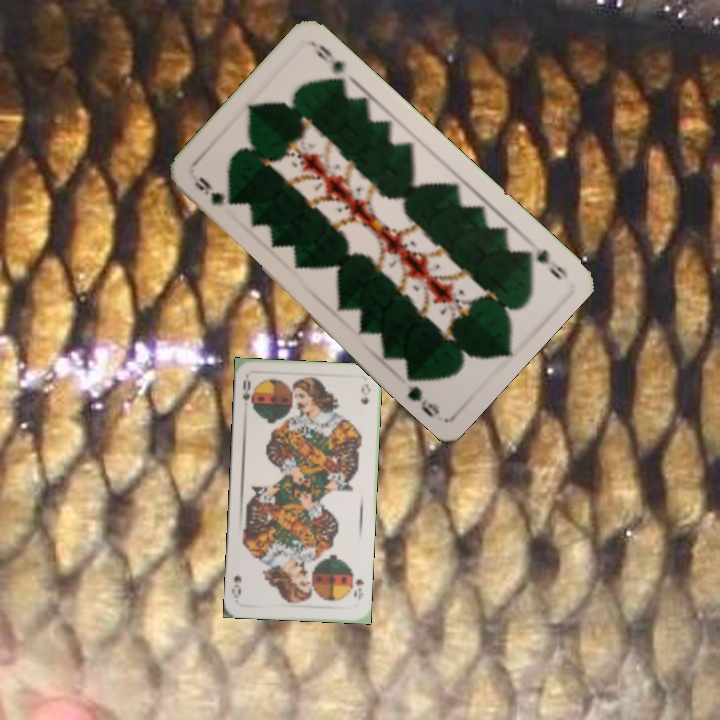G9: (518, 244, 571, 283), (190, 174, 227, 209)
SO: (238, 373, 256, 412), (348, 568, 366, 602)
